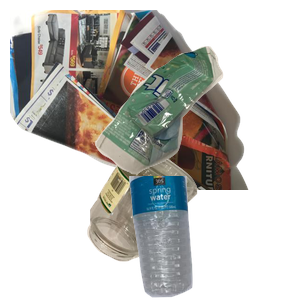glass: (85, 141, 275, 300)
paper: (10, 10, 250, 190)
plastic: (127, 176, 300, 300)
trash: (92, 44, 300, 211)
